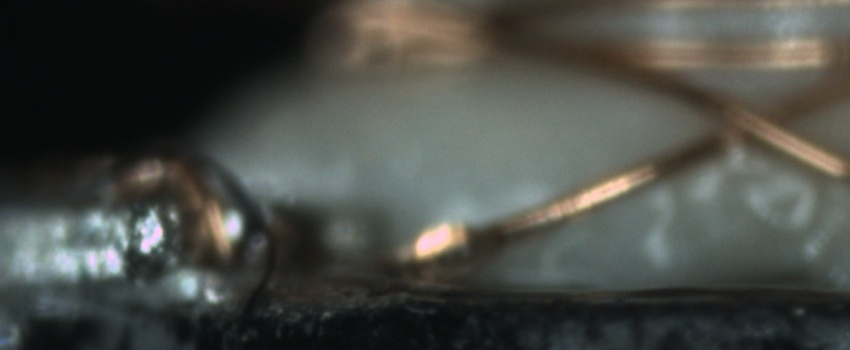CL: (692, 76, 829, 173)
TE: (116, 150, 232, 271)
